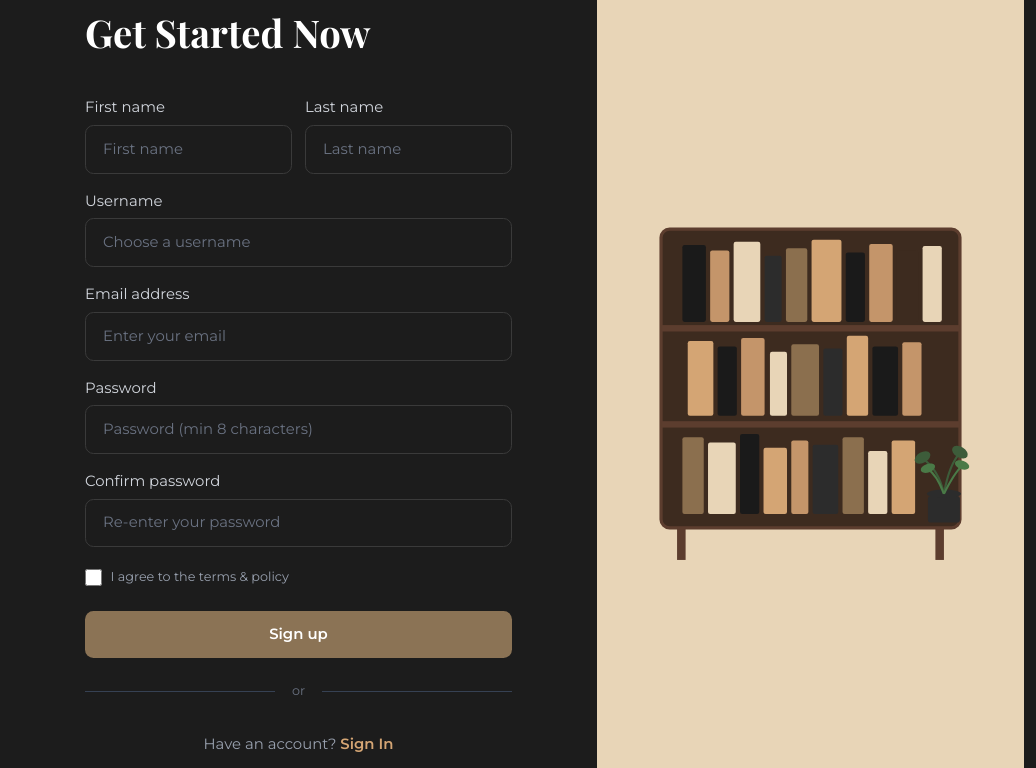
Test case: SignUpPage › successful registration › shows "Creating account…" while loading
In the field with placeholder "First name": {"x": 189, "y": 150} [85,125,292,174], type "John"
In the field with placeholder "Last name": {"x": 408, "y": 150} [305,125,512,174], type "Doe"
In the field with placeholder "Choose a username": {"x": 298, "y": 243} [85,218,512,267], type "johndoe"
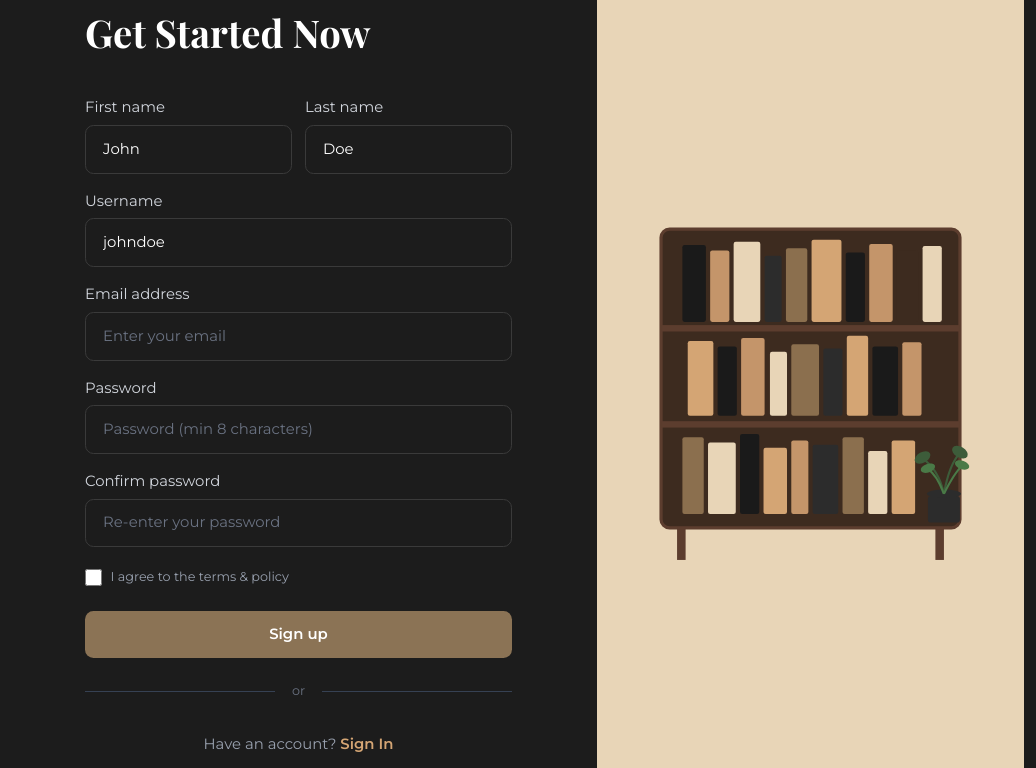
In the field with placeholder "Enter your email": {"x": 298, "y": 336} [85,312,512,361], type "john@test.com"
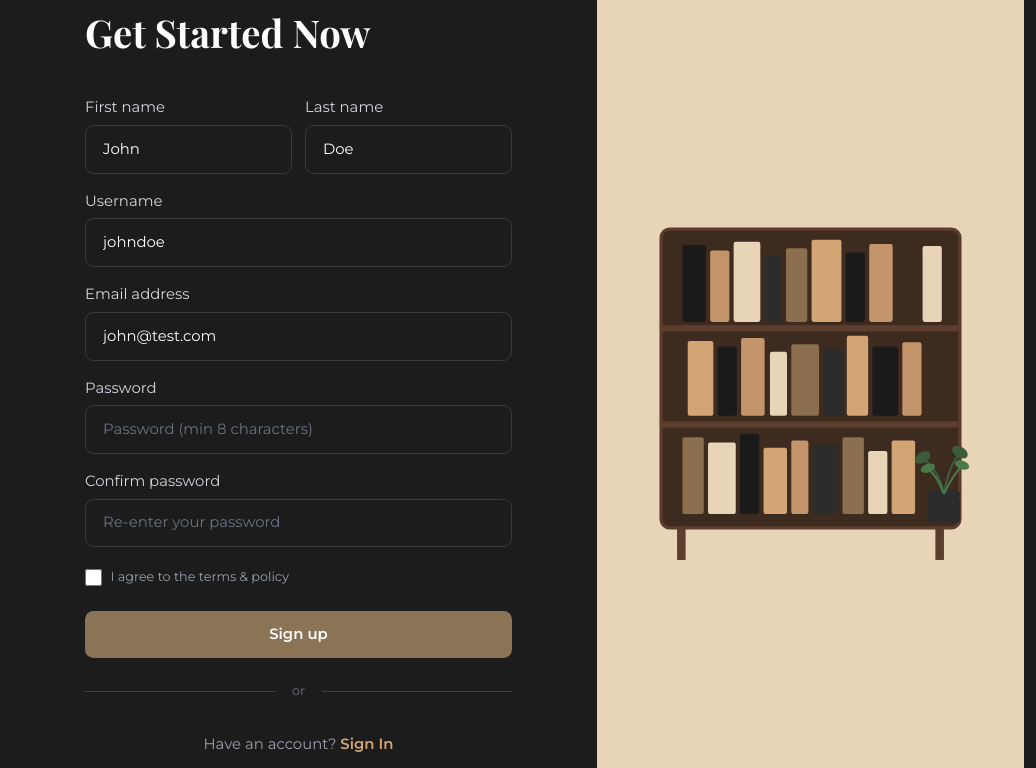
In the password field with placeholder "Password (min 8 characters)": {"x": 298, "y": 430} [85,405,512,454], type "password123"
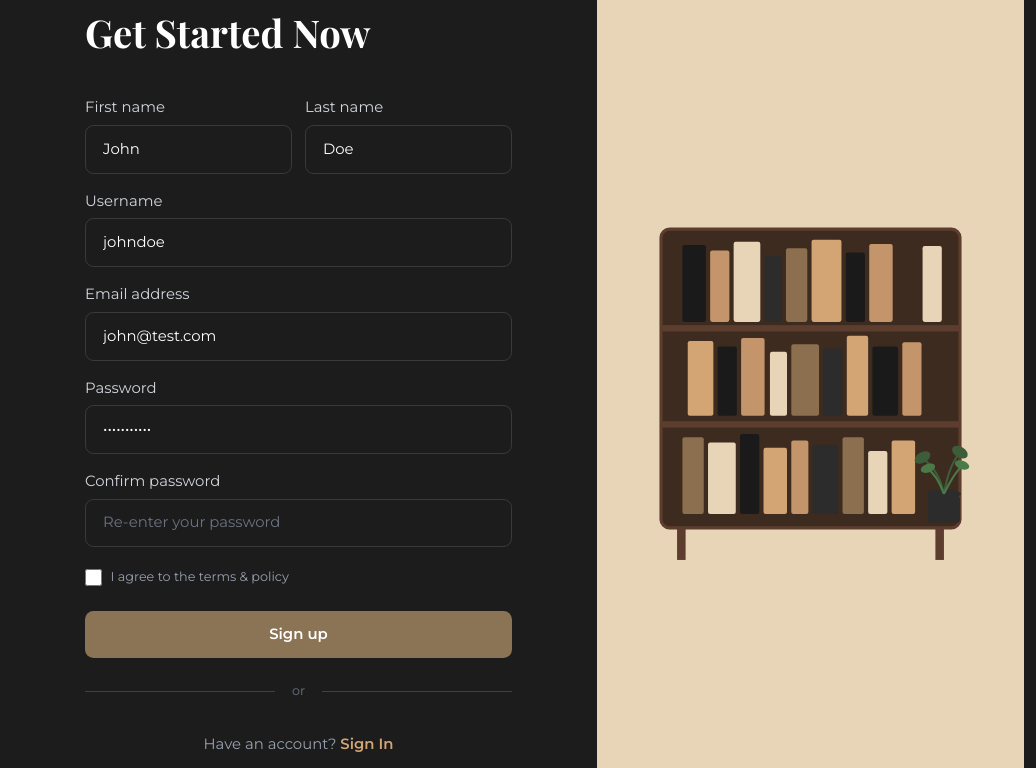
In the password field with placeholder "Re-enter your password": {"x": 298, "y": 523} [85,499,512,547], type "password123"
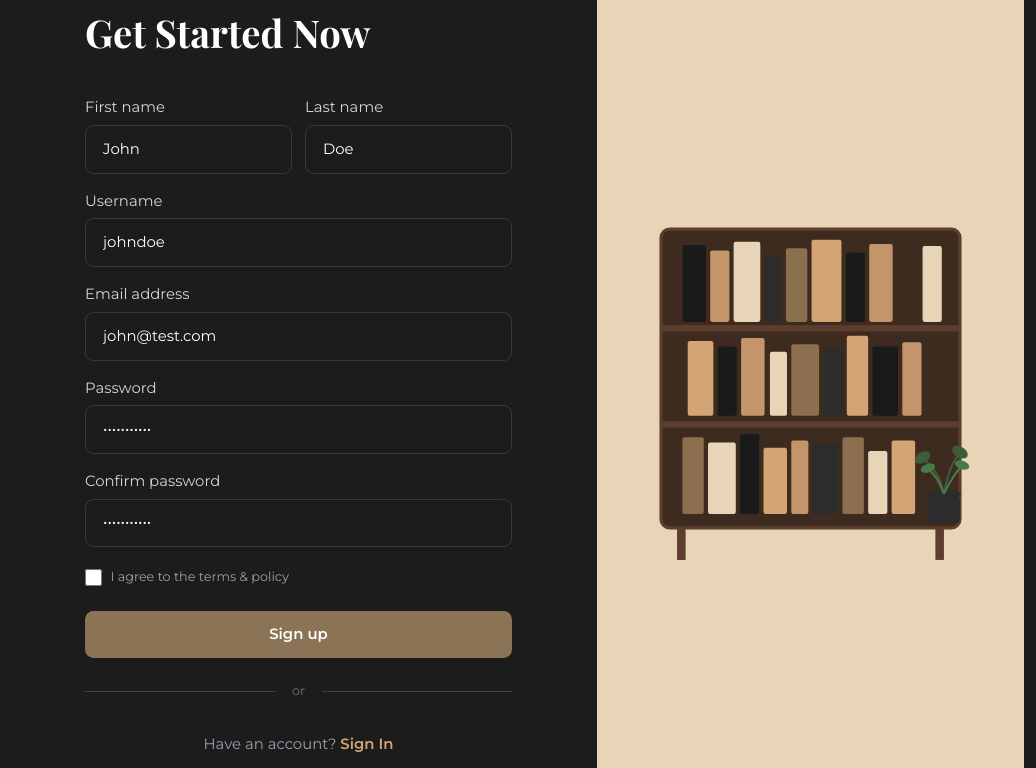
Click the checkbox: {"x": 94, "y": 577} [85,569,102,586]
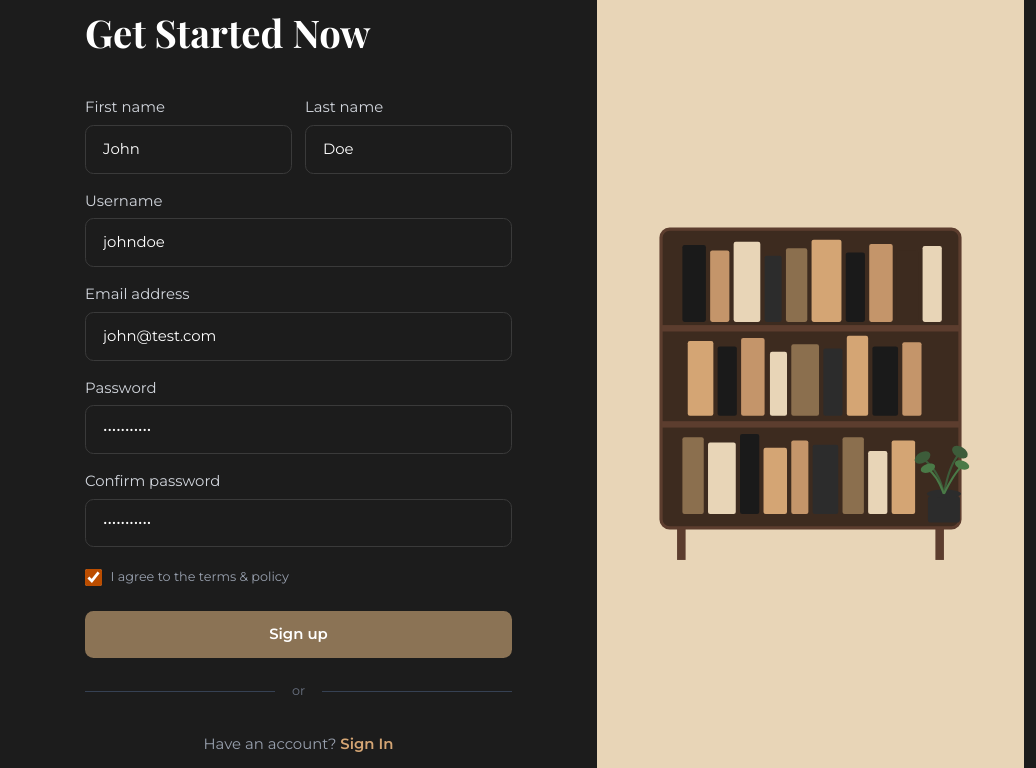
Click the button "Sign up": {"x": 298, "y": 634} [85,611,512,658]
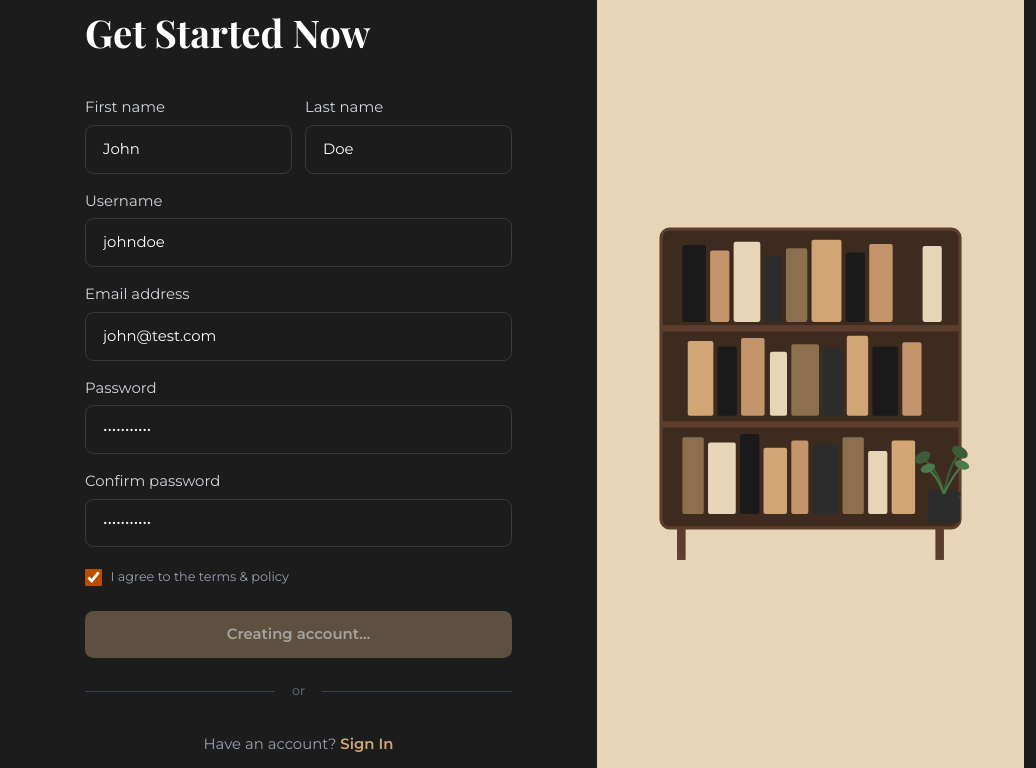
Expected: the button "Creating account…" is shown, [85,611,512,658]
